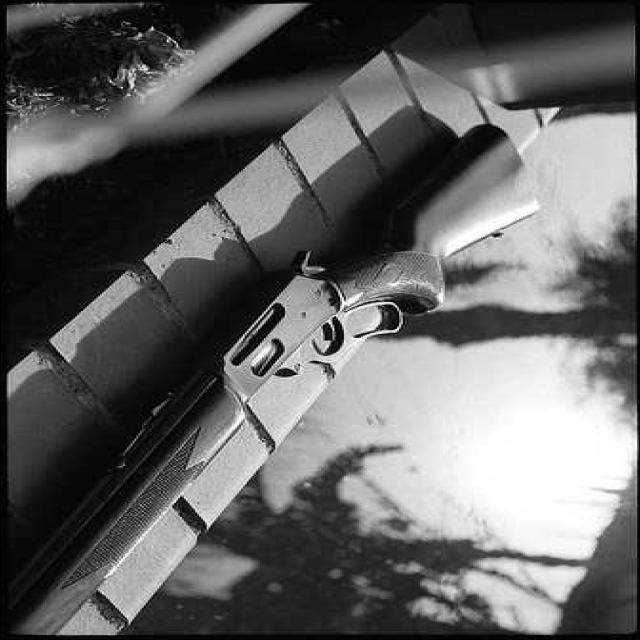heavyweapon: (1, 96, 592, 640)
